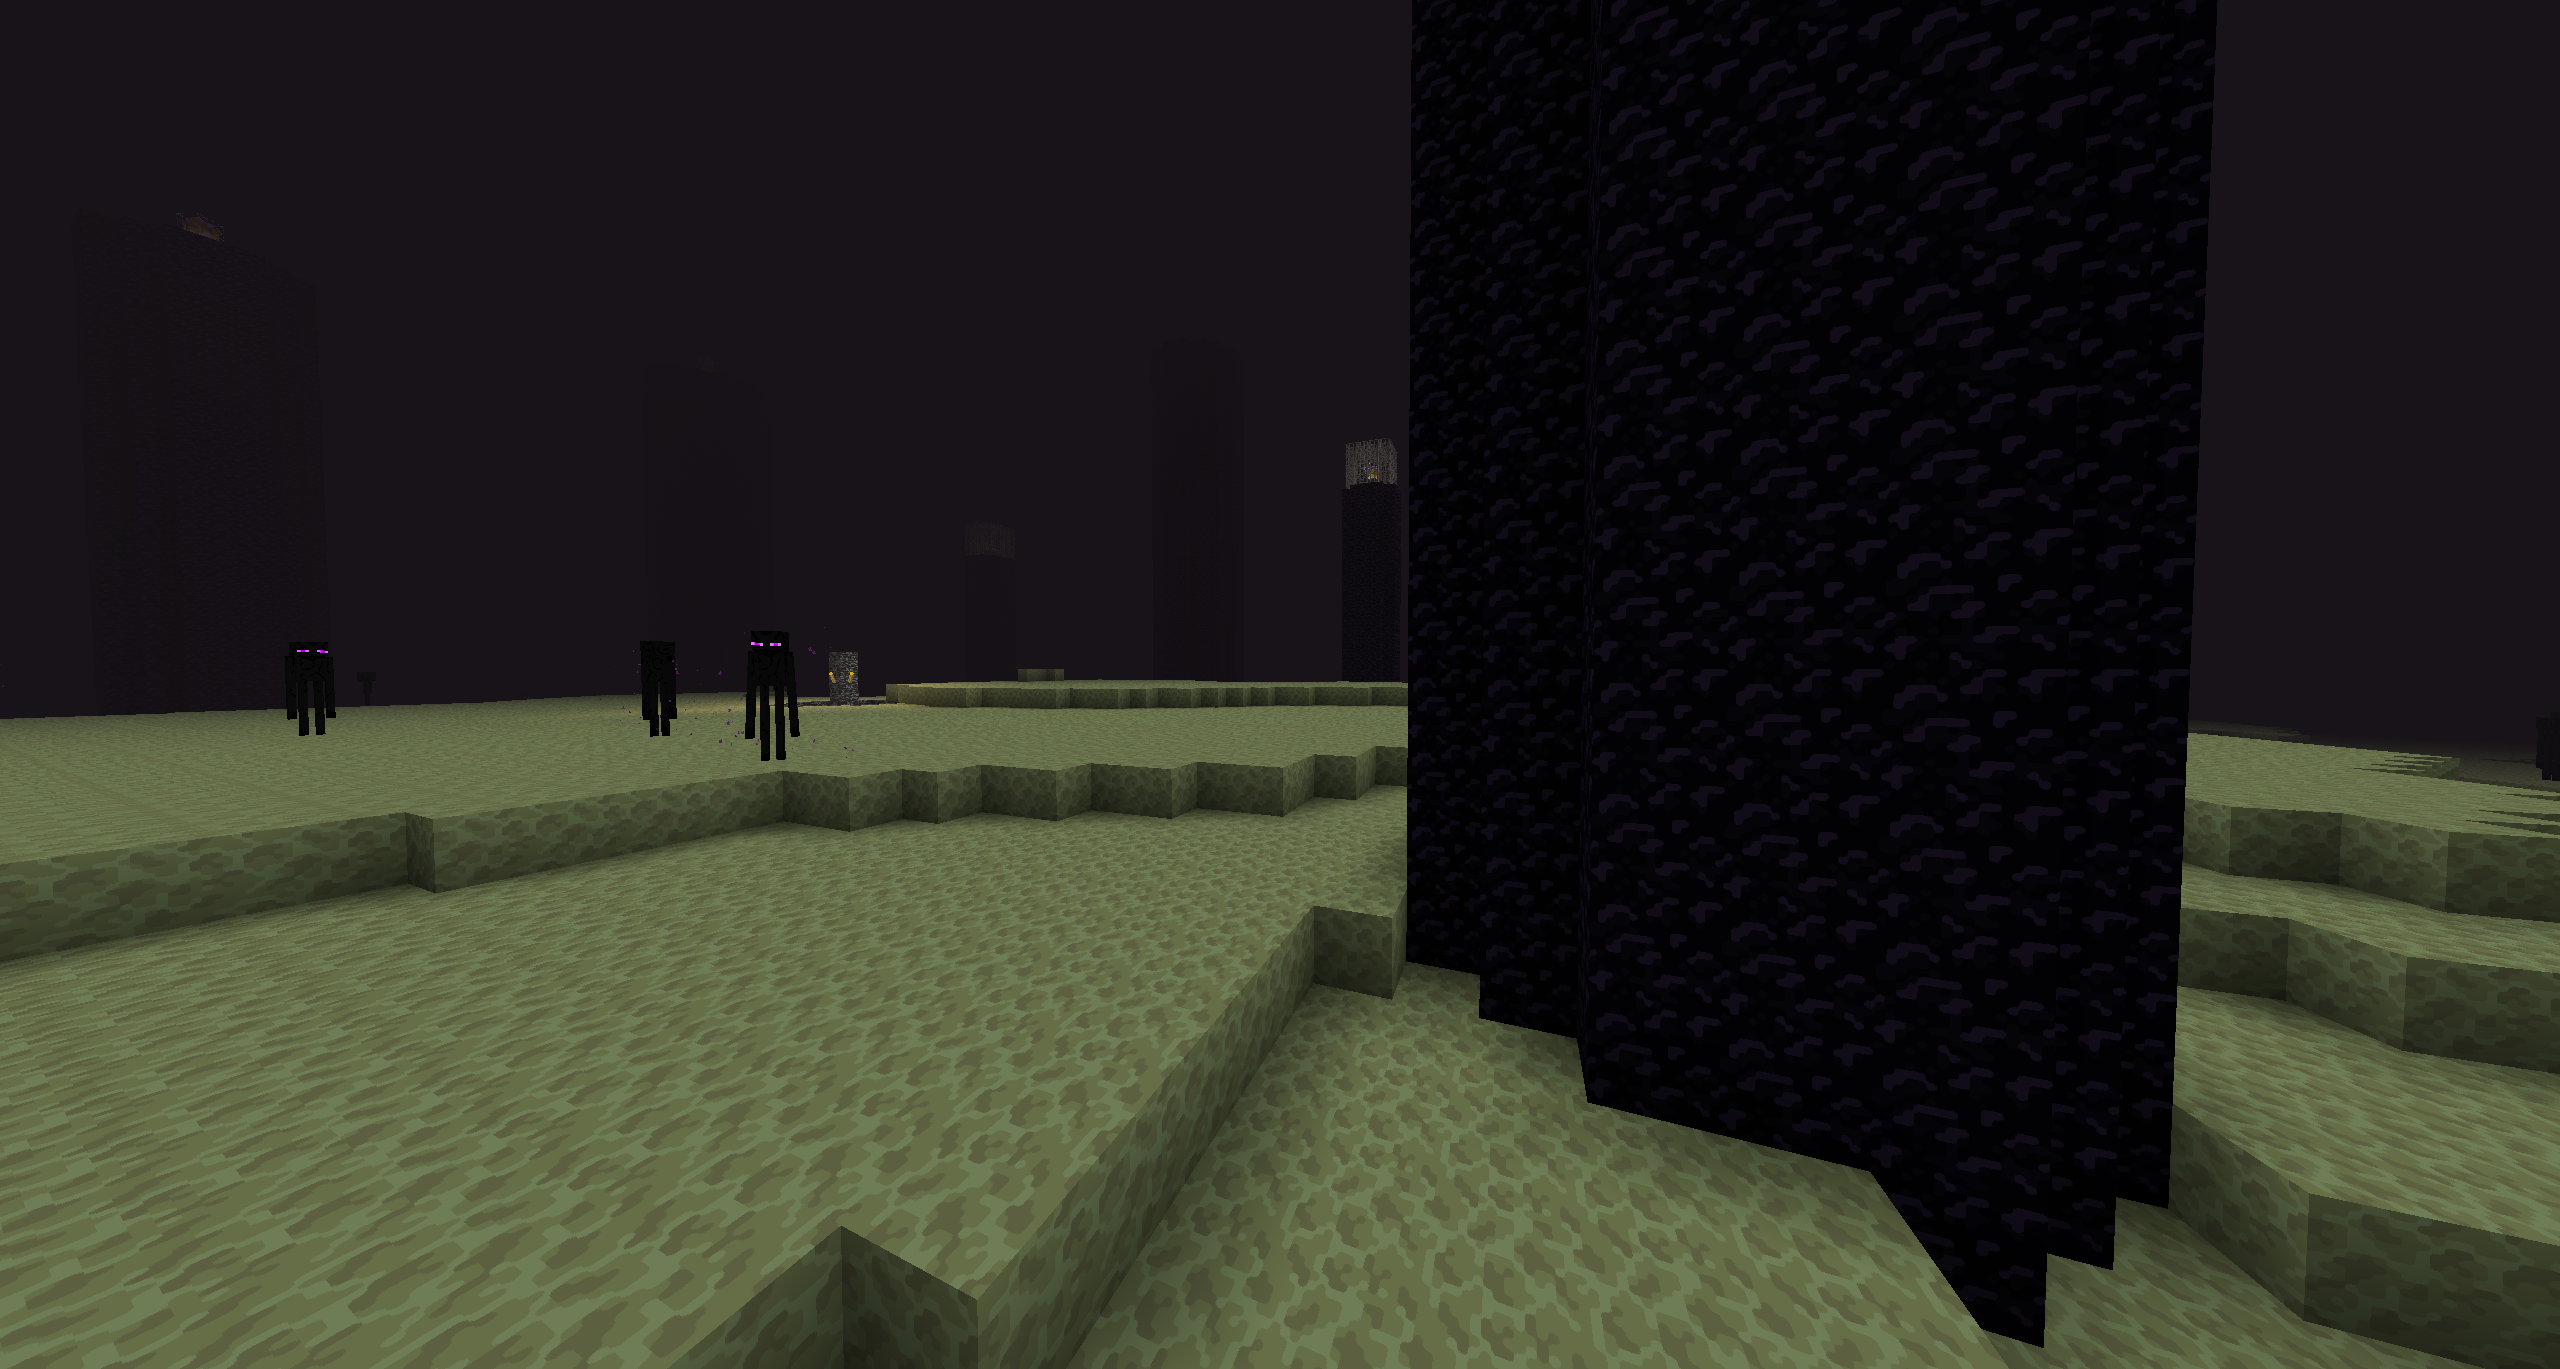enderman: (743, 628, 801, 768), (283, 640, 340, 743), (637, 638, 679, 741), (2535, 707, 2560, 787), (357, 668, 379, 711)
